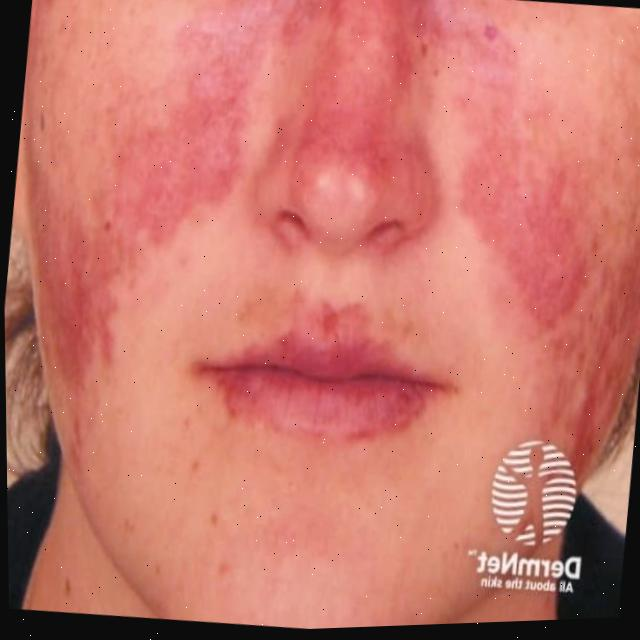lupus-detected: (399, 0, 640, 525), (0, 0, 272, 430), (197, 0, 458, 341)
